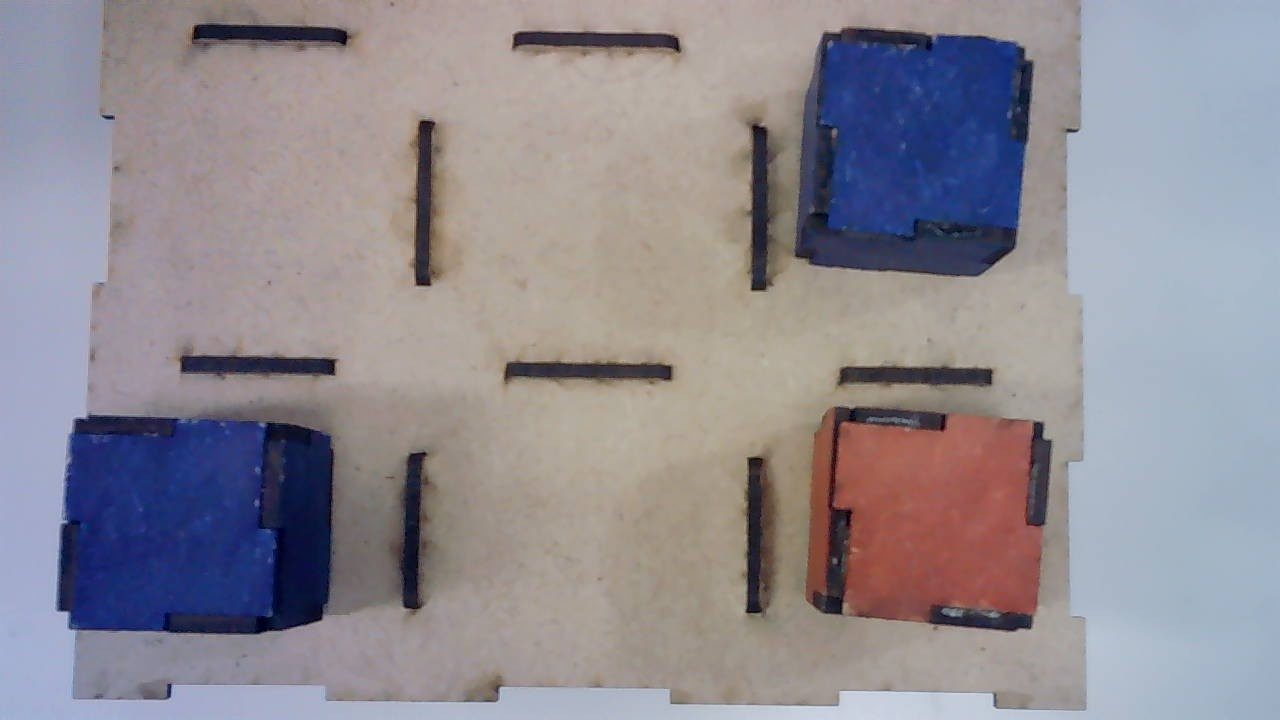blue box: (55, 414, 335, 636), (797, 24, 1028, 281)
red box: (810, 400, 1053, 640)
